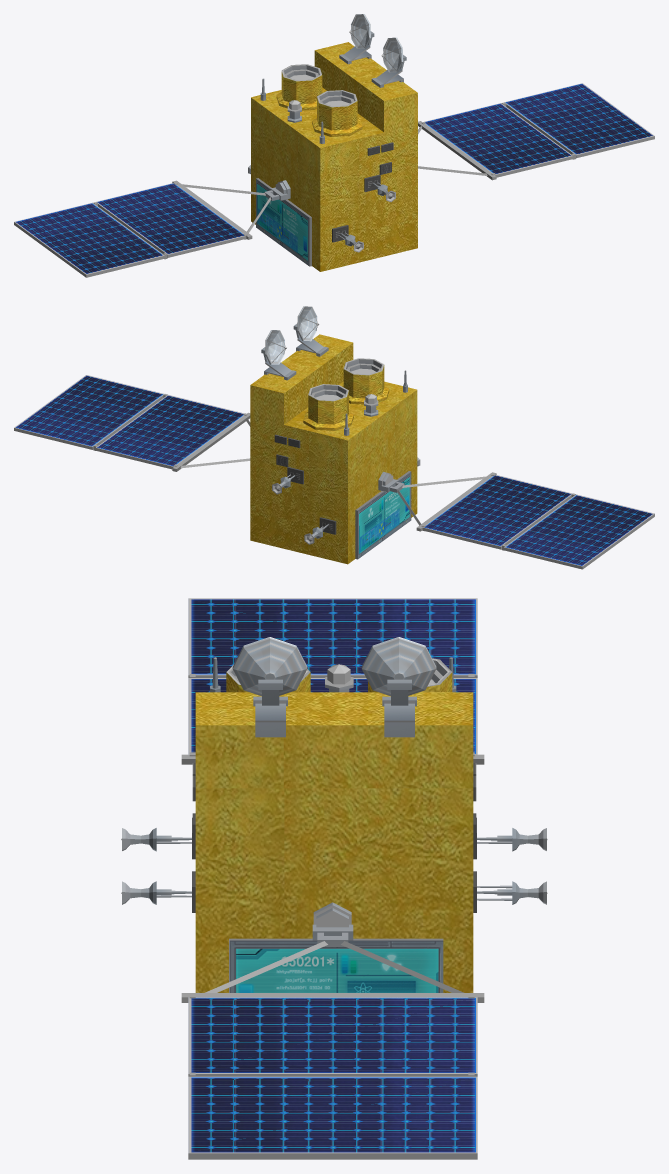
Rendered from 卫星金色01.obj.
3 views of the same model, one above another, from view 1: azimuth 30°, elevation 25°; view 2: azimuth 150°, elevation 25°; view 3: azimuth 270°, elevation 25° (orthographic). The views are drawn at different scales.
Parts seen in each view (by area): view 1: Box072; view 2: Box072; view 3: Box072.
Part boxes in pixels (x1,y1,x2,y2): Box072: [14, 14, 654, 277]; Box072: [14, 306, 654, 569]; Box072: [121, 598, 547, 1159].
Bounding box in the file's own units: 251 × 83.4 × 81.35.
